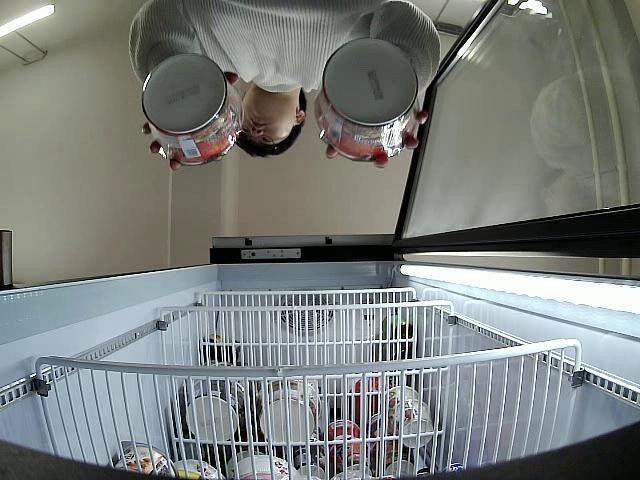01_ShinRamen_L: (313, 37, 422, 165), (140, 53, 244, 169)
